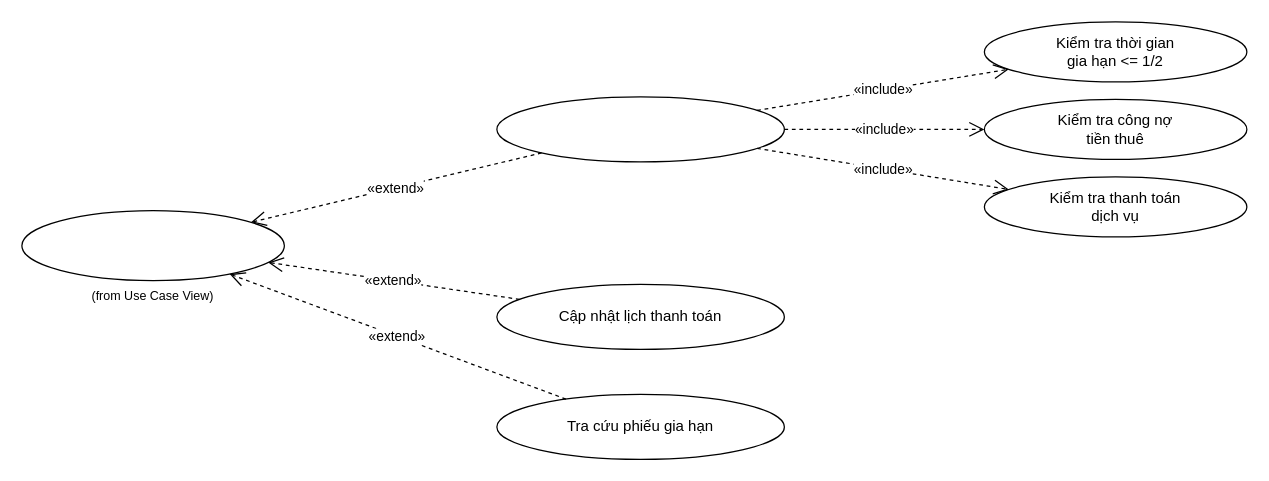
The diagram is 1269 pixels wide and 481 high, and some of its shapes have lost their labels. The centre of each missing label's shape, as x and y in pixels:
"Gia hạn hợp đồng" goes at point 152,245.
"Lập phiếu gia hạn" goes at point 640,129.
